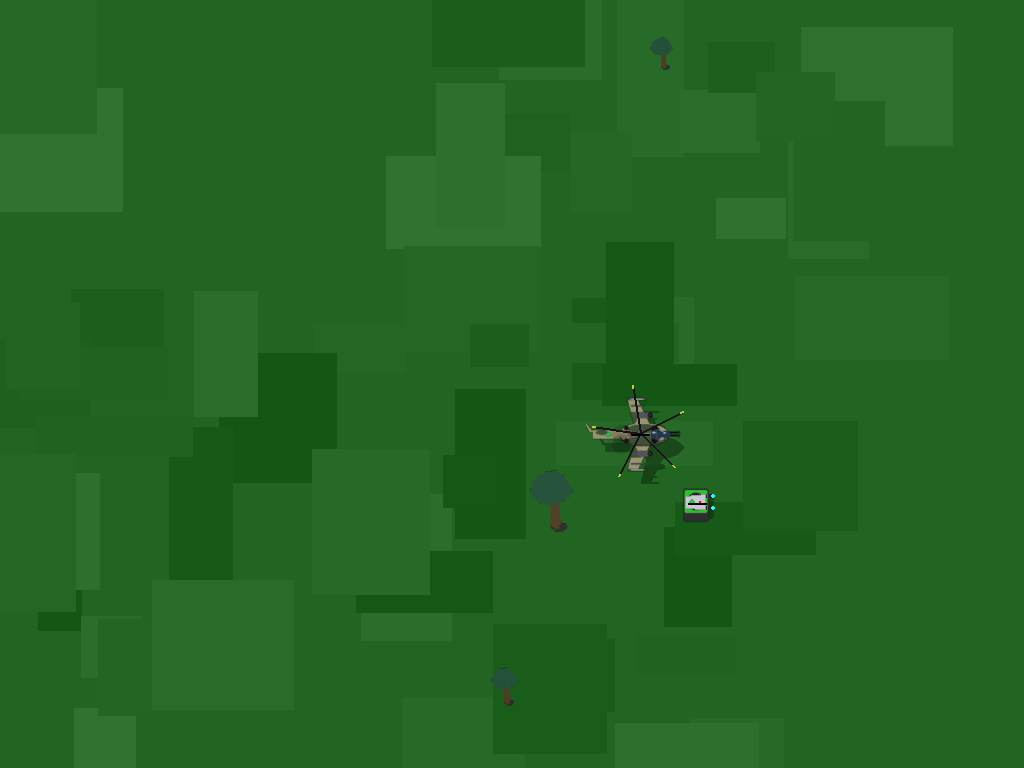AntiAirTurret: (675, 479, 719, 523)
Mi24: (611, 404, 668, 461)
